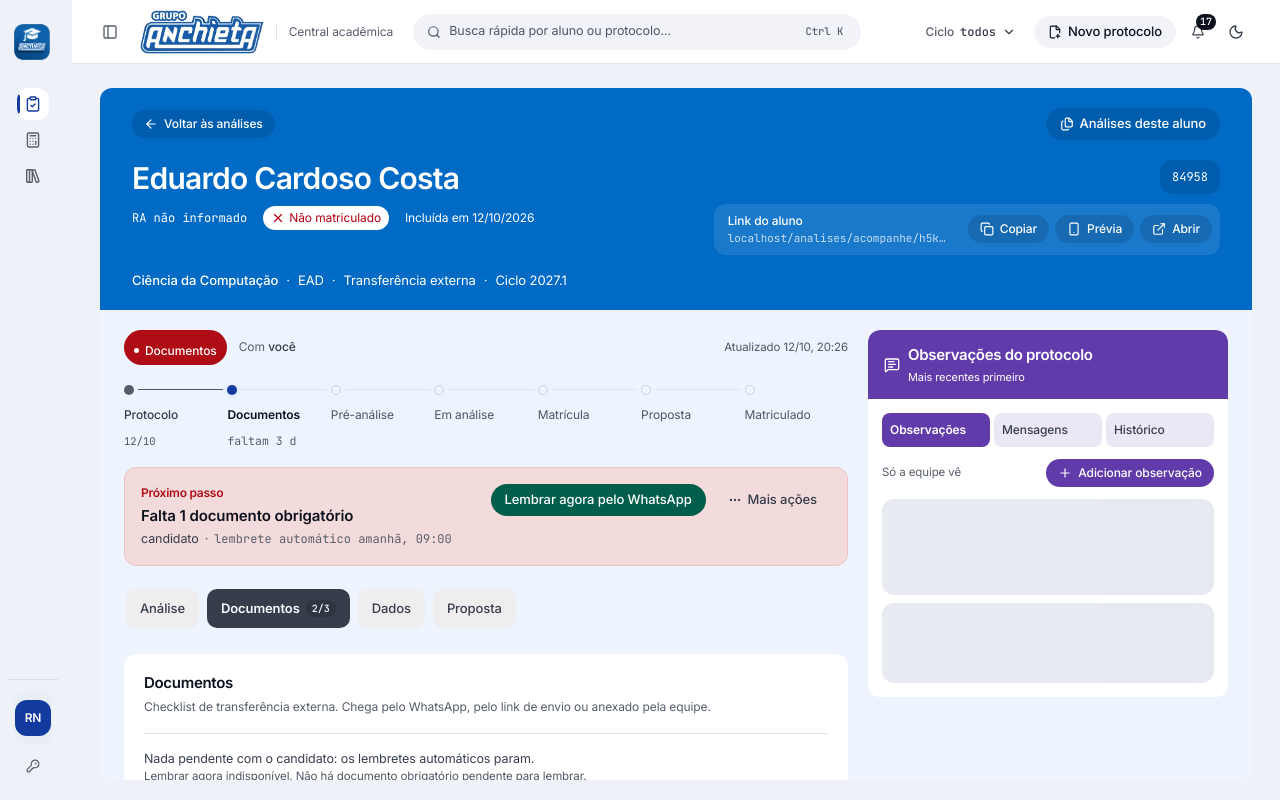
Test: fluxos por papel › consultor abre link antigo de conversa e registra observação no painel permanente
The image size is (1280, 800).
Click the button "Adicionar observação". click: coordinates (1130, 473)
box: [1046, 459, 1214, 487]
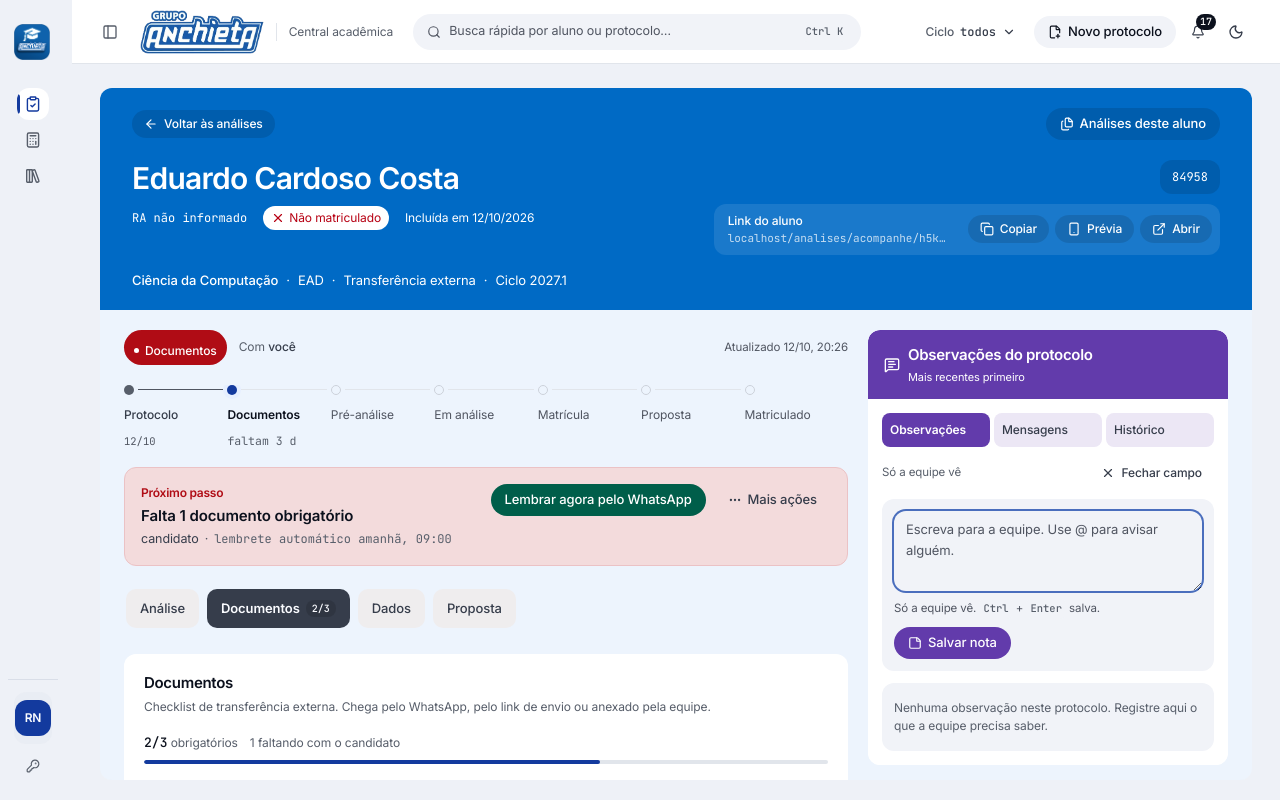
Type "Candidato vai mandar os planos de ensino amanhã." into the dropdown with placeholder "Escreva para a equipe. Use @ para avisar alguém.". click: coordinates (1048, 551)
box: [894, 511, 1202, 591]
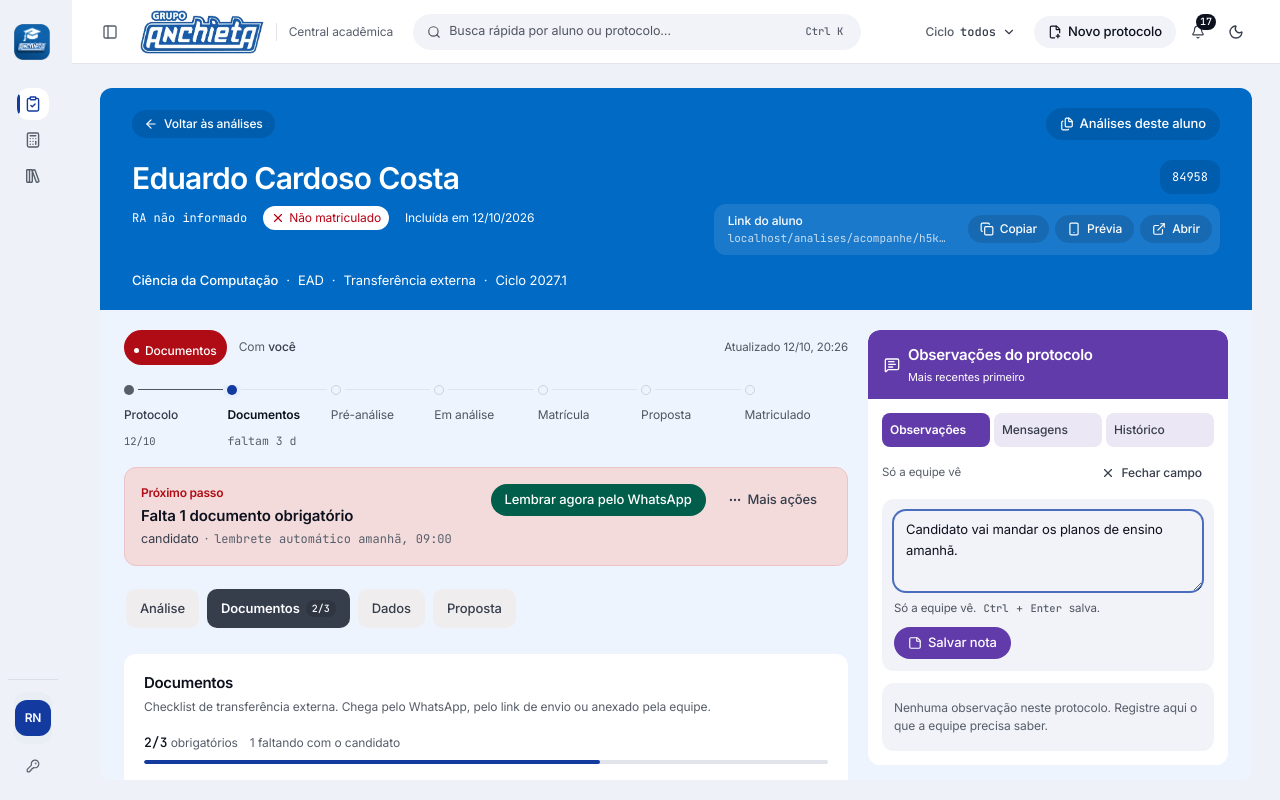
Click the button "Salvar nota". click: coordinates (952, 643)
box: [894, 627, 1011, 659]
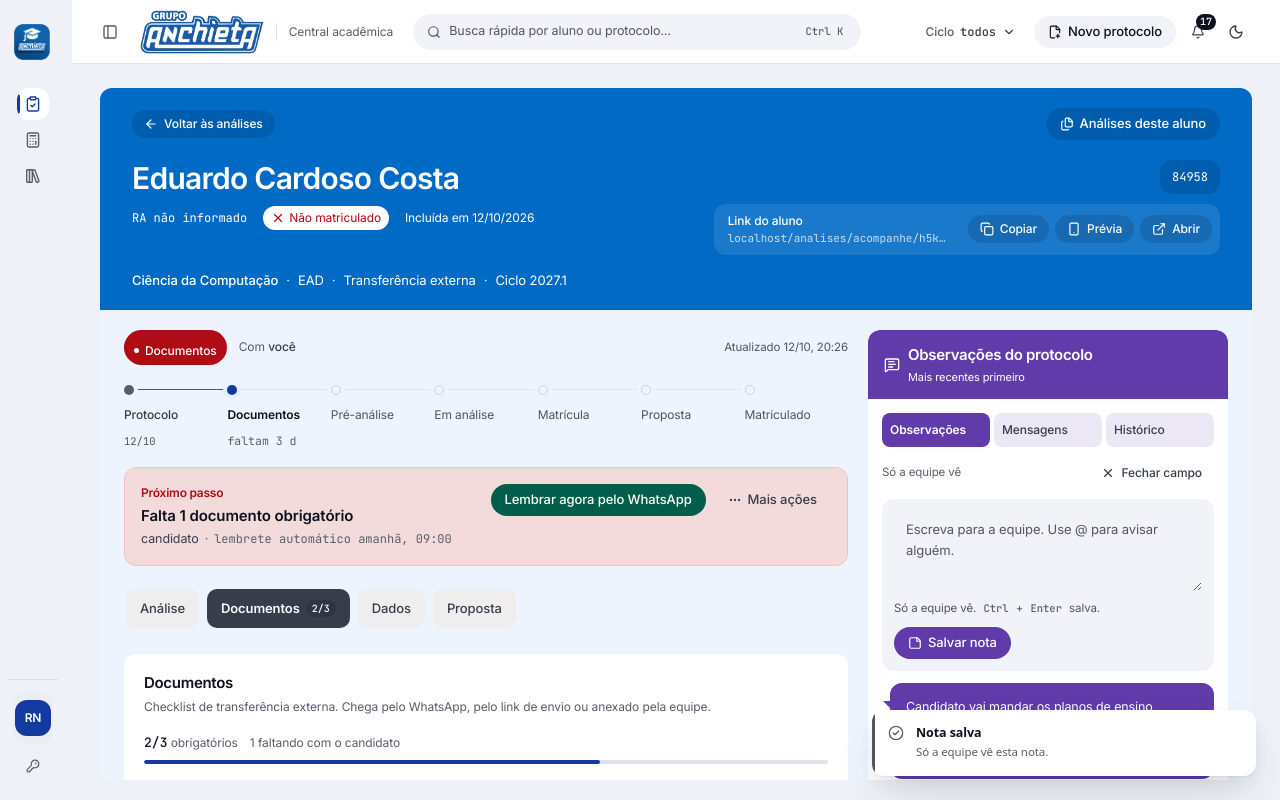
Check: the text "Candidato vai mandar os planos de ensino amanhã." is shown, box [906, 699, 1156, 734]
